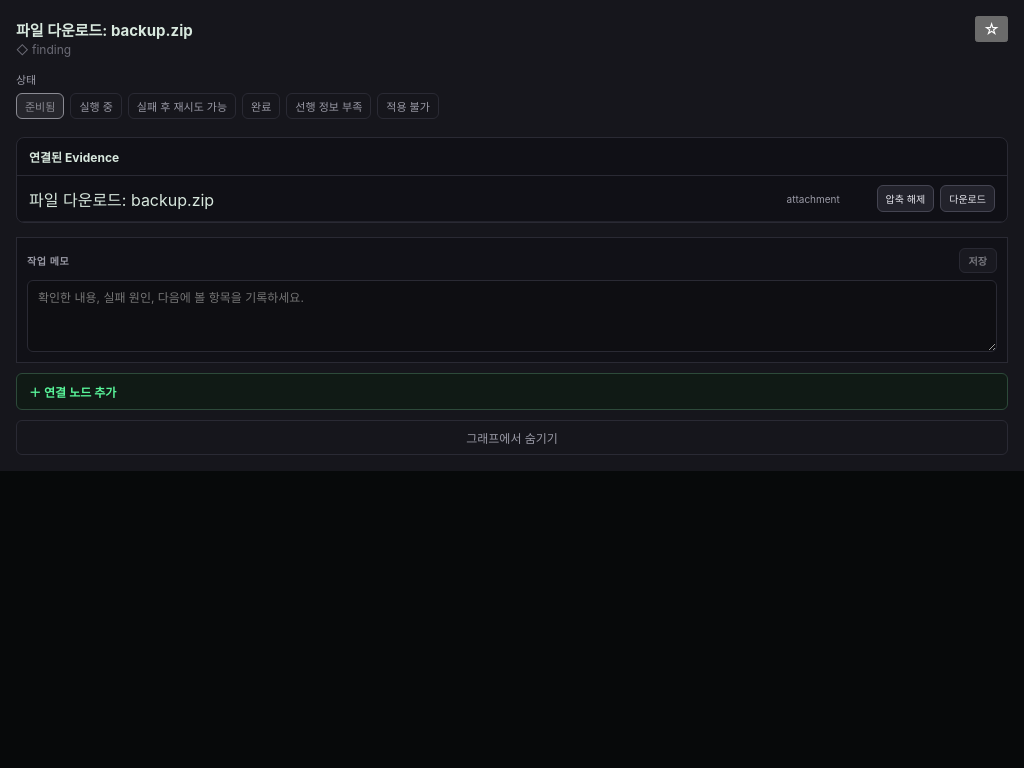
Test: lets a zip's own contents become graph nodes instead of only offering a raw download
The image size is (1024, 768).
Click the button "압축 해제". click: x=905, y=198
box: [877,185,934,212]
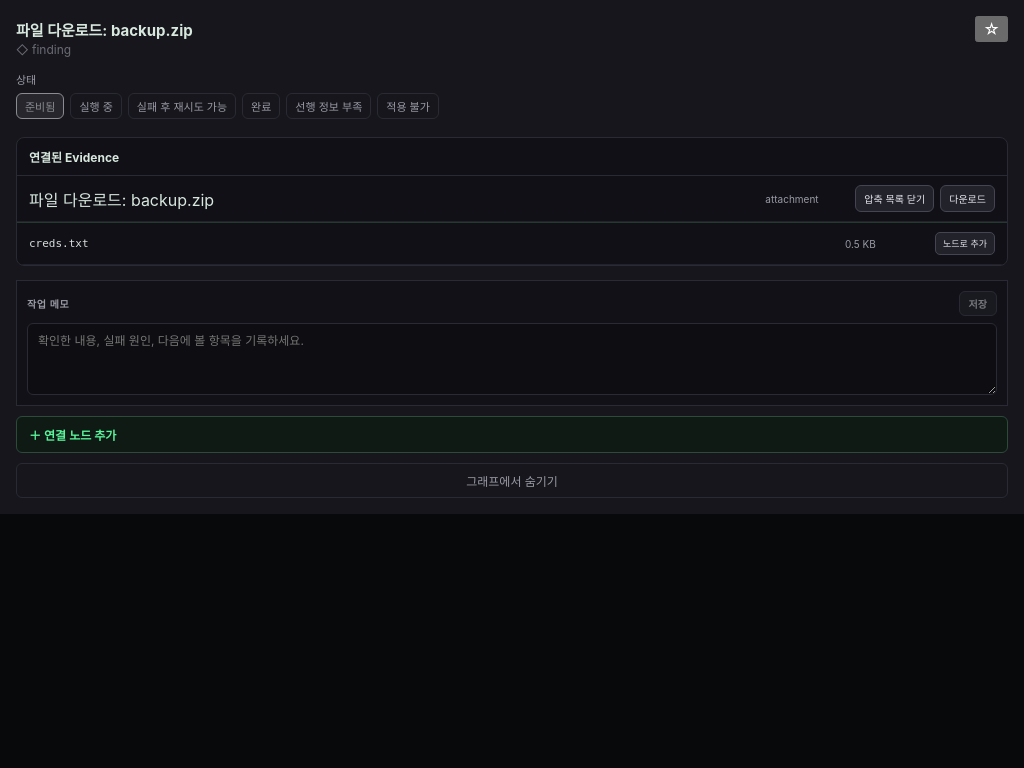
Click the button "노드로 추가". click: x=965, y=244
box: [935,232,995,255]
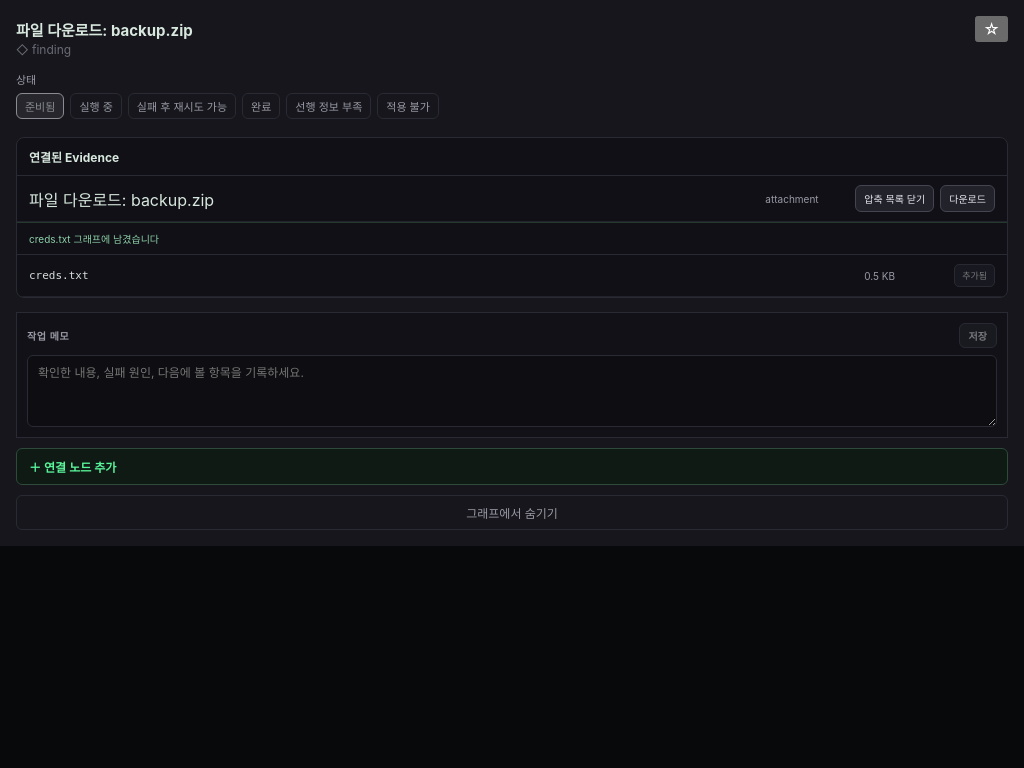
Check: the button "추가됨" is shown, box [954,264,995,287]
